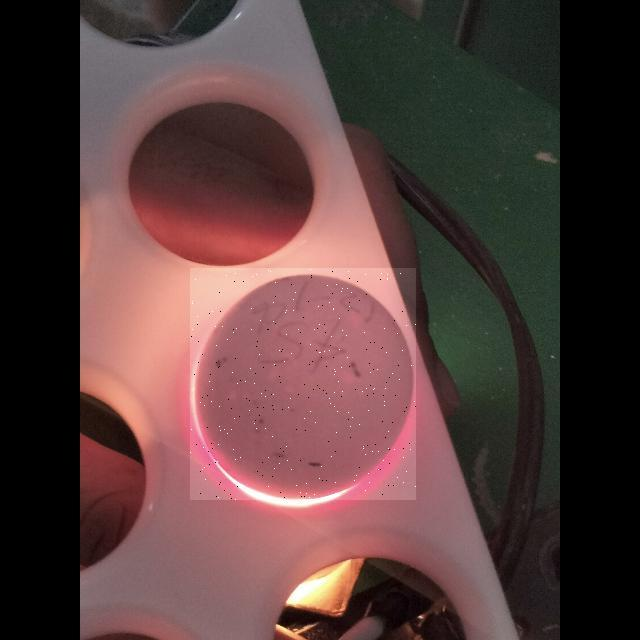Fertile: (190, 268, 416, 500)
